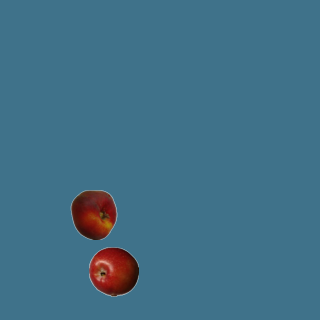Apple Braeburn: (88, 246, 138, 296)
Nectarine Flat: (68, 189, 118, 239)
